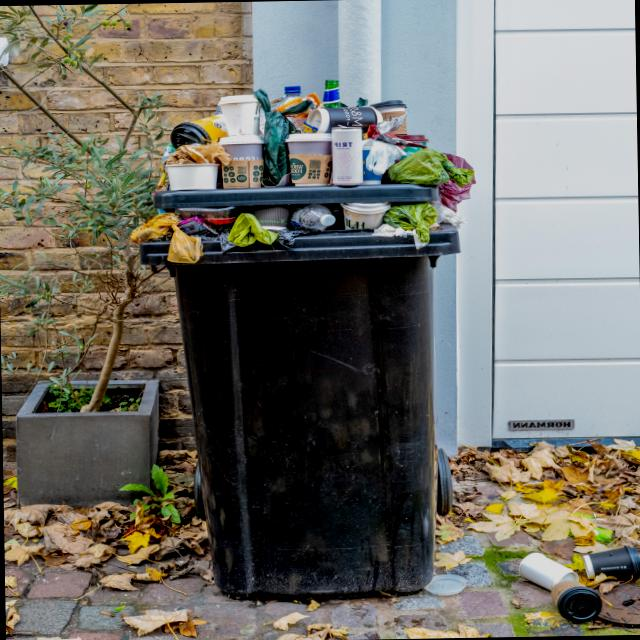garbage: (128, 82, 482, 608), (510, 514, 639, 630)
